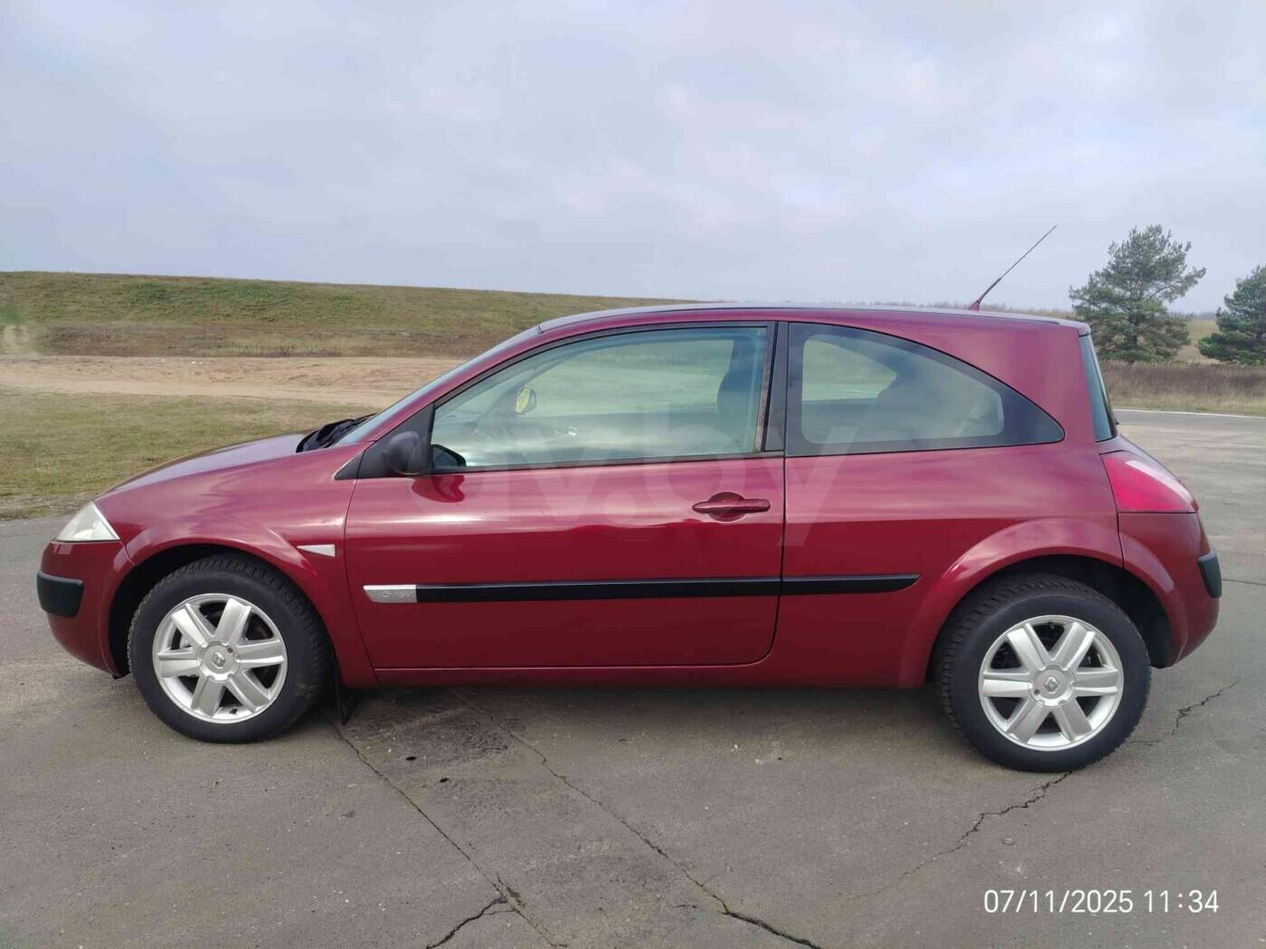Megane_2002-2006: (27, 296, 1225, 797)
